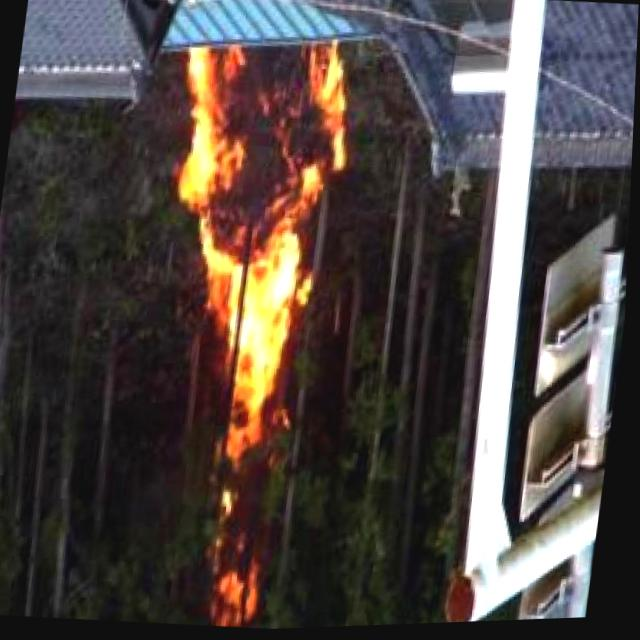Fire: (139, 31, 374, 493), (200, 533, 280, 627)
